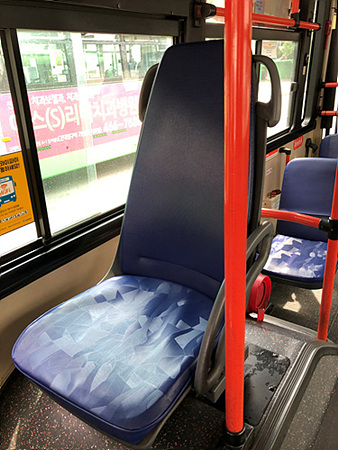seat: (23, 47, 227, 421)
